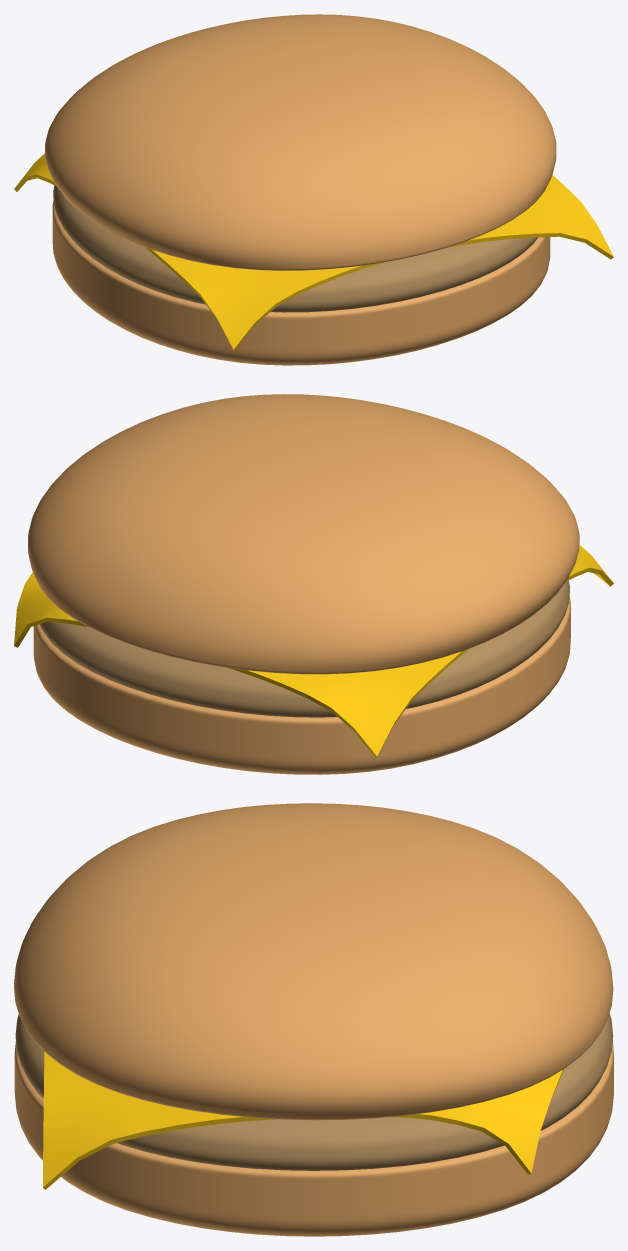
File: hamburger.glb
3 renders of one model, top to bottom at view 1: azimuth 30°, elevation 25°; view 2: azimuth 150°, elevation 25°; view 3: azimuth 270°, elevation 25°, orthographic. The views are drawn at different scales.
Visible parts, largest first — view 1: Cube.002, Cube, Cube.001, Plane; view 2: Cube.002, Cube, Cube.001, Plane; view 3: Cube.002, Cube, Cube.001, Plane.
Part boxes in pixels (x1,y1,x2,y2): Cube.002: (45, 14, 556, 270); Cube: (52, 201, 550, 365); Cube.001: (53, 185, 537, 312); Plane: (14, 153, 613, 350); Cube.002: (28, 394, 579, 674); Cube: (33, 597, 570, 774); Cube.001: (39, 580, 569, 717); Plane: (14, 544, 613, 757); Cube.002: (14, 803, 613, 1120); Cube: (14, 1040, 613, 1236); Cube.001: (15, 1013, 613, 1170); Plane: (43, 1051, 563, 1189).
Bounding box in the file's own units: 9.86 × 4.73 × 9.48.
